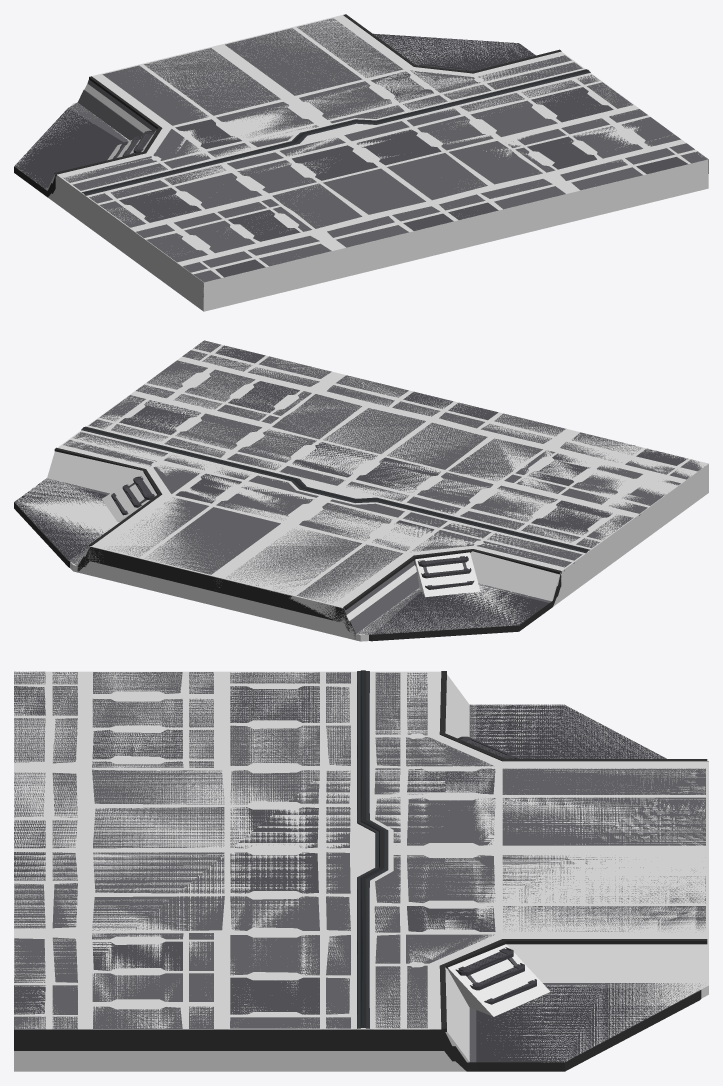
Rendered from SM_Bld_Bridge_Floor_01.fbx.
3 views of the same model, one above another, from view 1: azimuth 30°, elevation 25°; view 2: azimuth 150°, elevation 25°; view 3: azimuth 270°, elevation 25° (orthographic). The views are drawn at different scales.
Parts seen in each view (by area): view 1: SM_Bld_Bridge_Floor_01_LOD0, SM_Bld_Bridge_Floor_01_ConvexHulls; view 2: SM_Bld_Bridge_Floor_01_ConvexHulls, SM_Bld_Bridge_Floor_01_LOD0; view 3: SM_Bld_Bridge_Floor_01_LOD0, SM_Bld_Bridge_Floor_01_ConvexHulls.
Part boxes in pixels (<box>): SM_Bld_Bridge_Floor_01_LOD0: <box>14,14,708,296</box>; SM_Bld_Bridge_Floor_01_ConvexHulls: <box>14,14,708,311</box>; SM_Bld_Bridge_Floor_01_ConvexHulls: <box>16,340,708,641</box>; SM_Bld_Bridge_Floor_01_LOD0: <box>14,340,704,641</box>; SM_Bld_Bridge_Floor_01_LOD0: <box>14,670,708,1071</box>; SM_Bld_Bridge_Floor_01_ConvexHulls: <box>14,671,708,1071</box>.
Bounding box in the file's own units: 1453 × 1770 × 101.
Materials: 1 (1 with a texture image).
